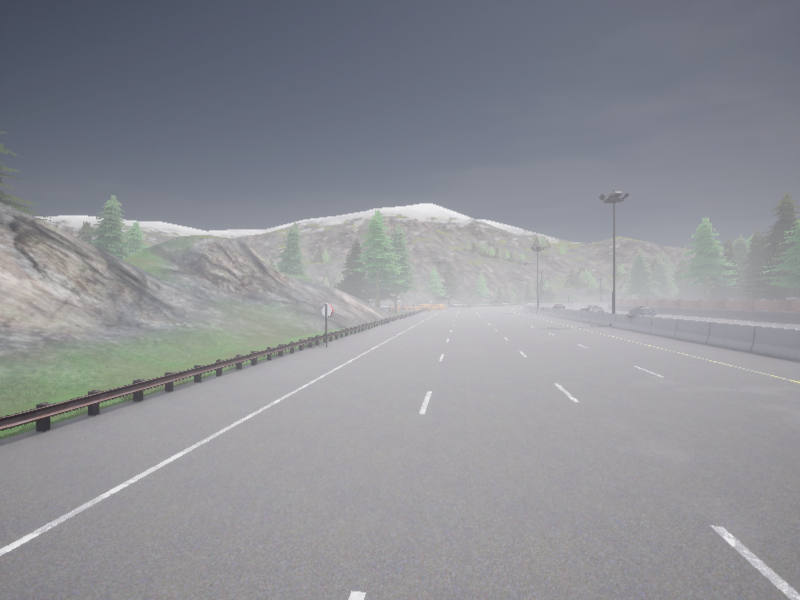vehicle: (552, 305, 564, 308)
